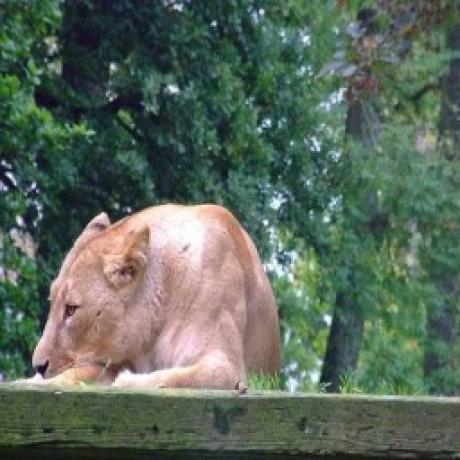Lion: (19, 199, 291, 392)
